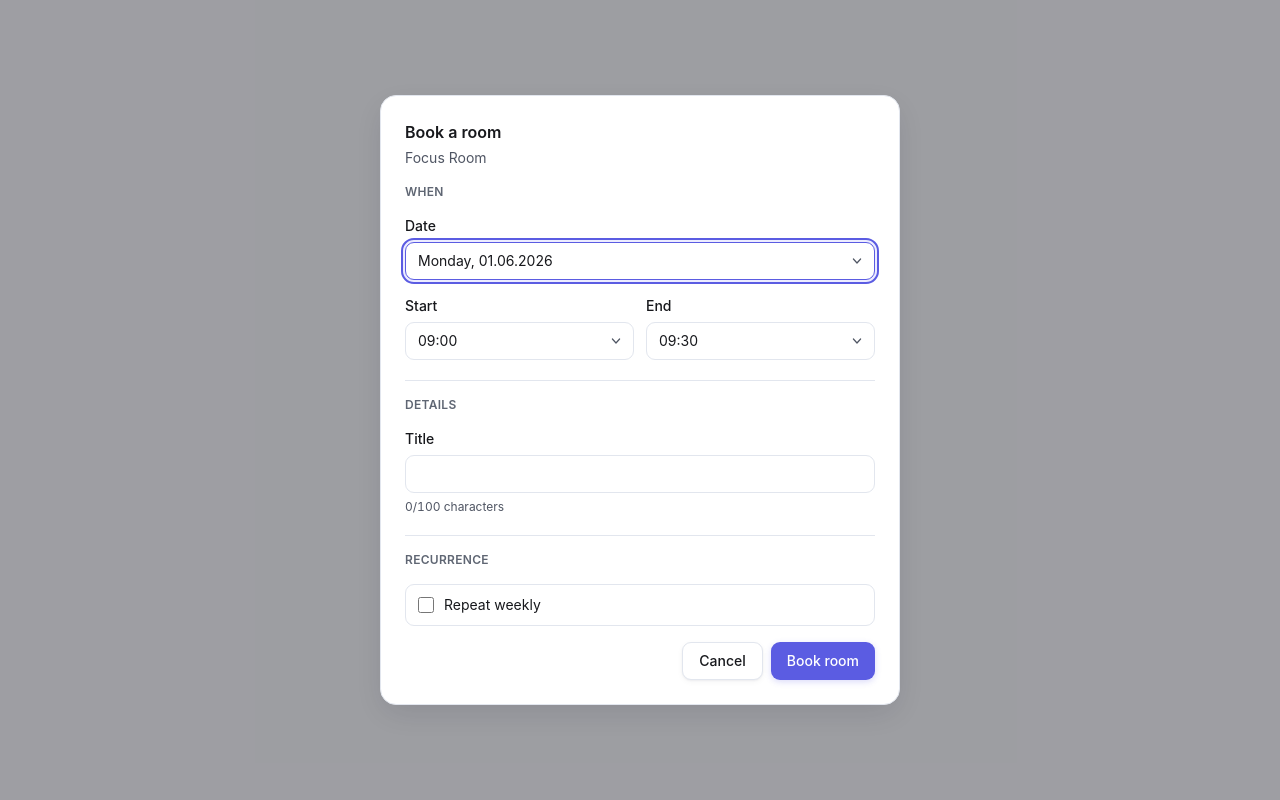
Test case: BookingCreateDialog validation › blocks submission and shows a field error when the title is empty
Step 1. Click the button "Book room" → (823, 661), box [771,642,875,680]
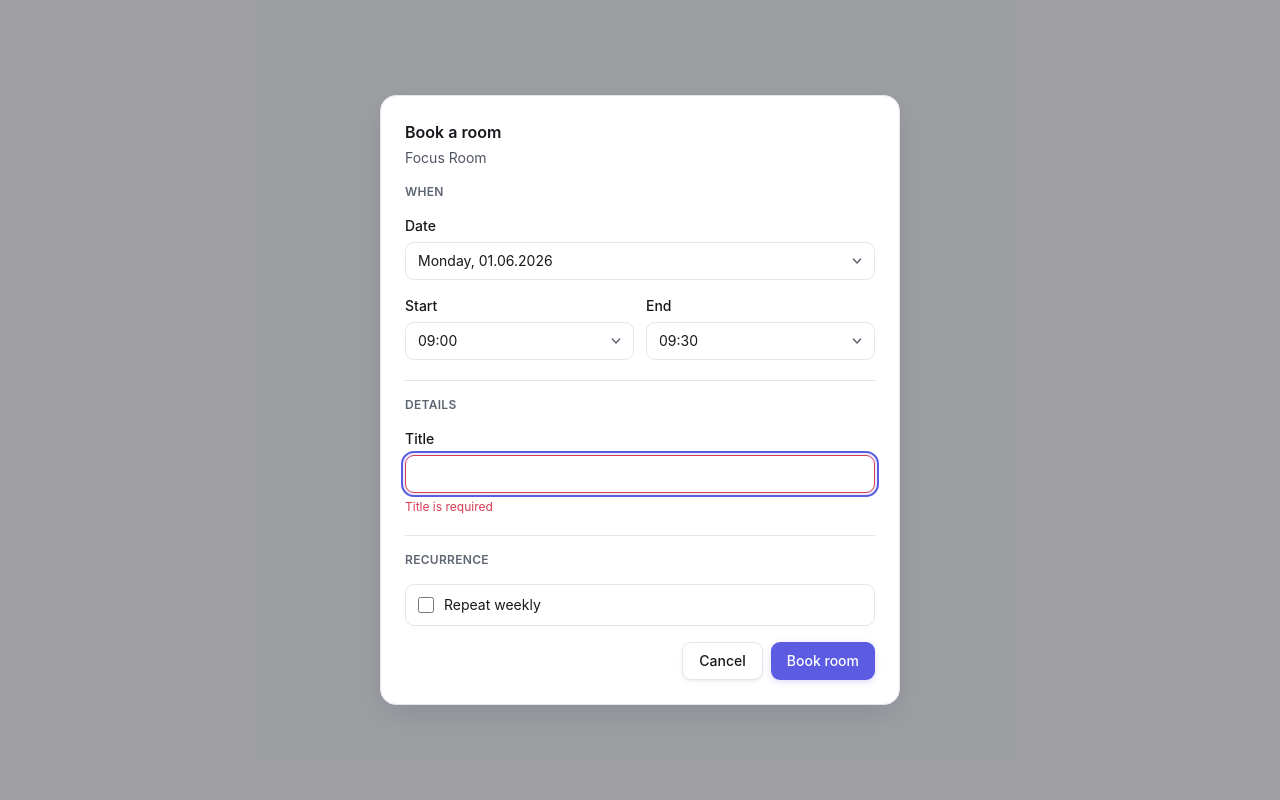
Now the text "Title is required" is shown, box [405,499,493,514]
